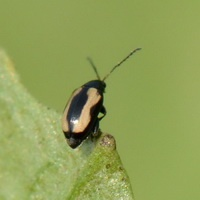insect: (62, 48, 140, 148)
